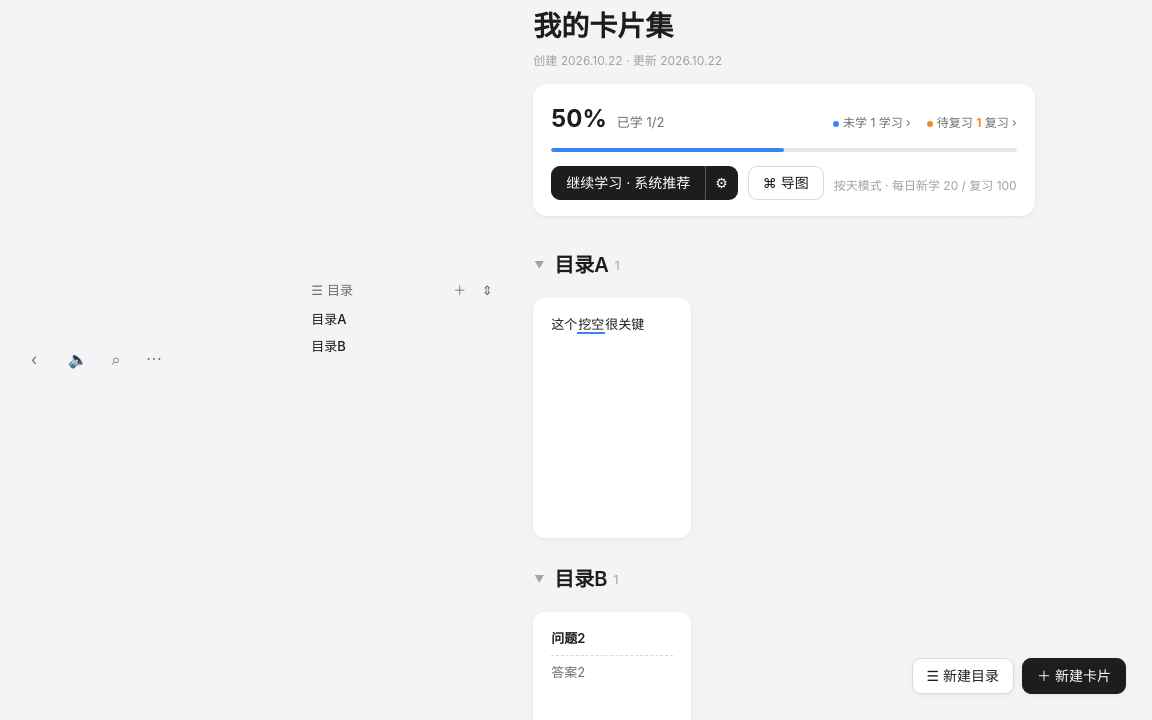
Test: 卡片集页 › 点目录 A 的折叠箭头：PATCH collapsed 并隐藏块内卡片
The width and height of the screenshot is (1152, 720).
Check: the field showing "我的卡片集" is shown, box 533,4 -> 1035,49
Click the 1st text with class "caret" at (539, 265), box 534,259 -> 544,271
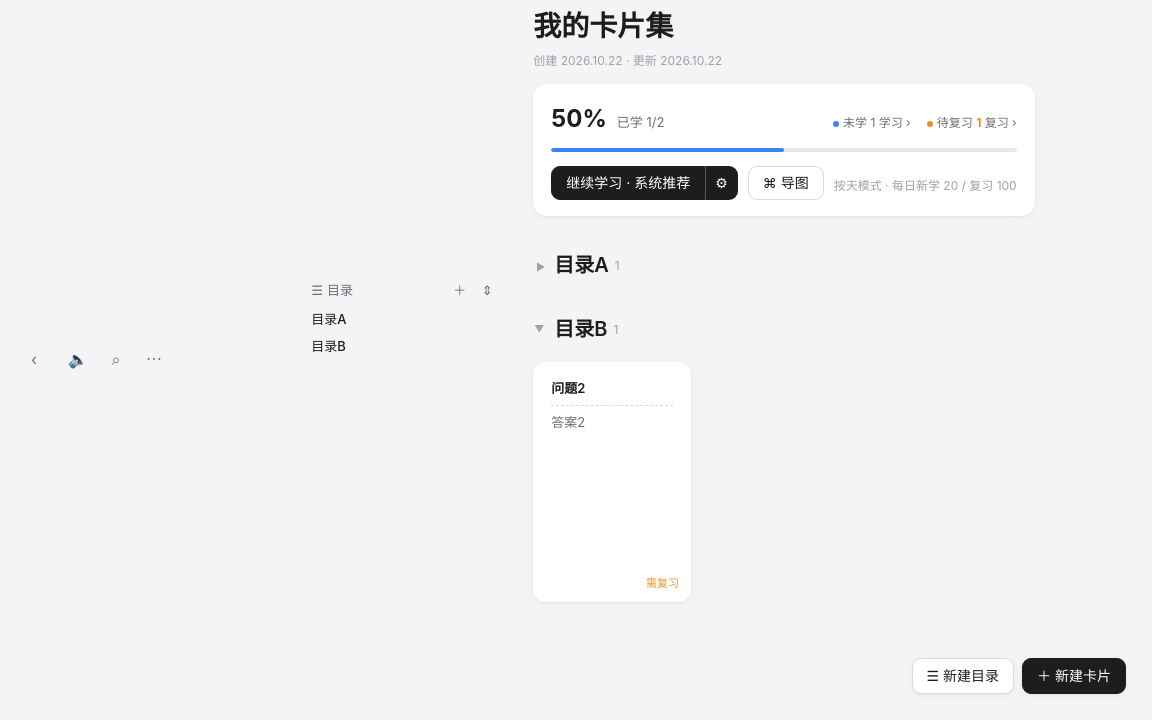
Check: the text "答案2" is shown, box 551,414 -> 585,430
Check: the text "这个挖空很关键" is gone
